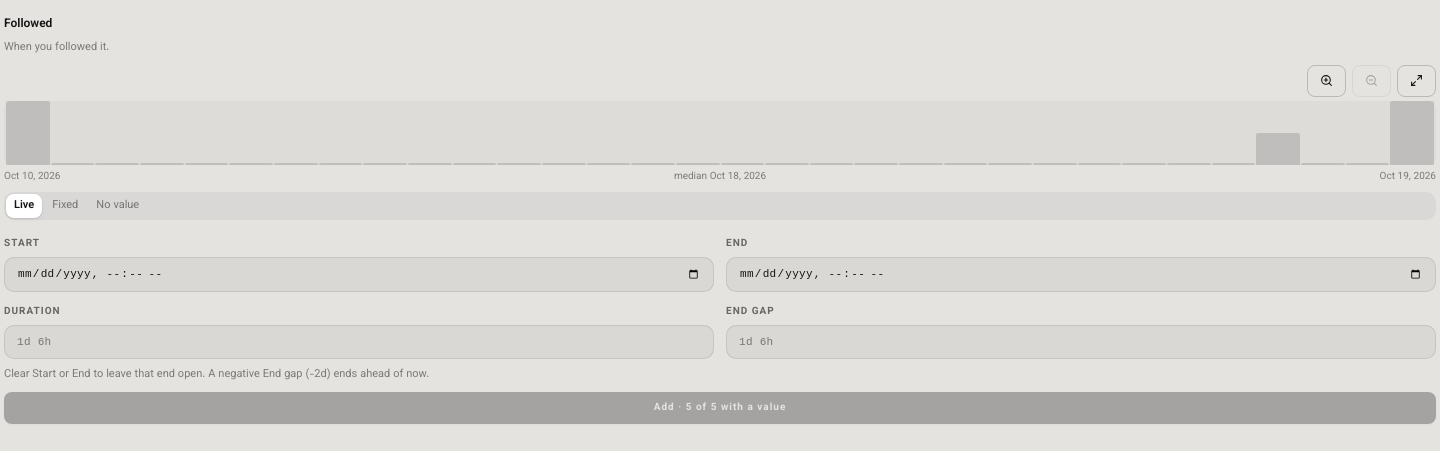
Test: ChannelTimeEditor › zoom (TB-04) › the captions show the time of day once under three days show
The image size is (1440, 451).
Click the button named "Zoom in" at {"x": 1326, "y": 80}, box [1307,64,1346,96]
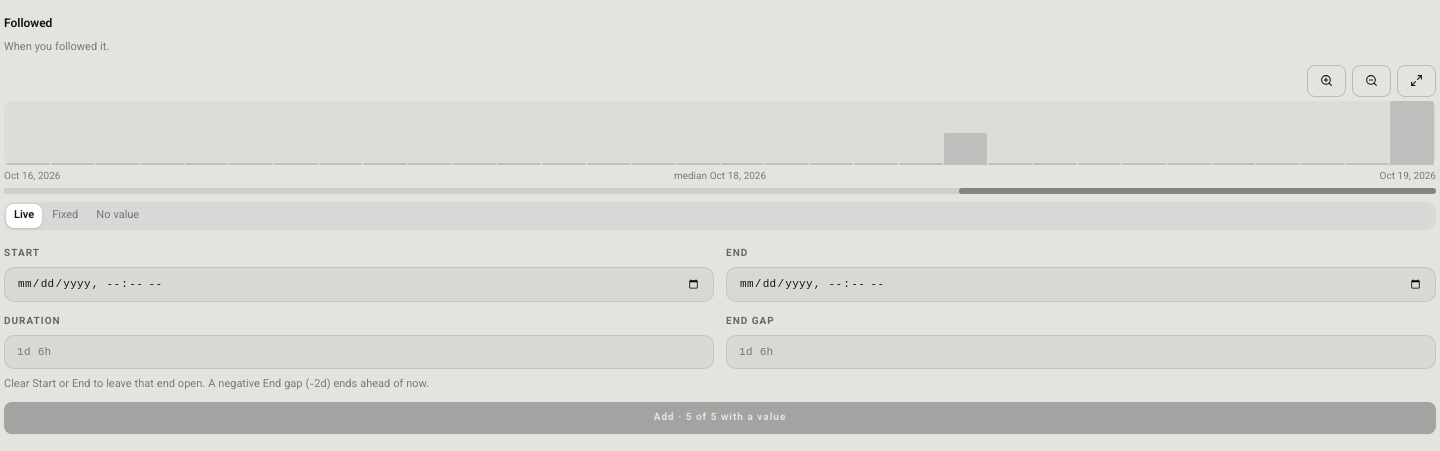
Click the button named "Zoom in" at {"x": 1326, "y": 80}, box [1307,64,1346,96]
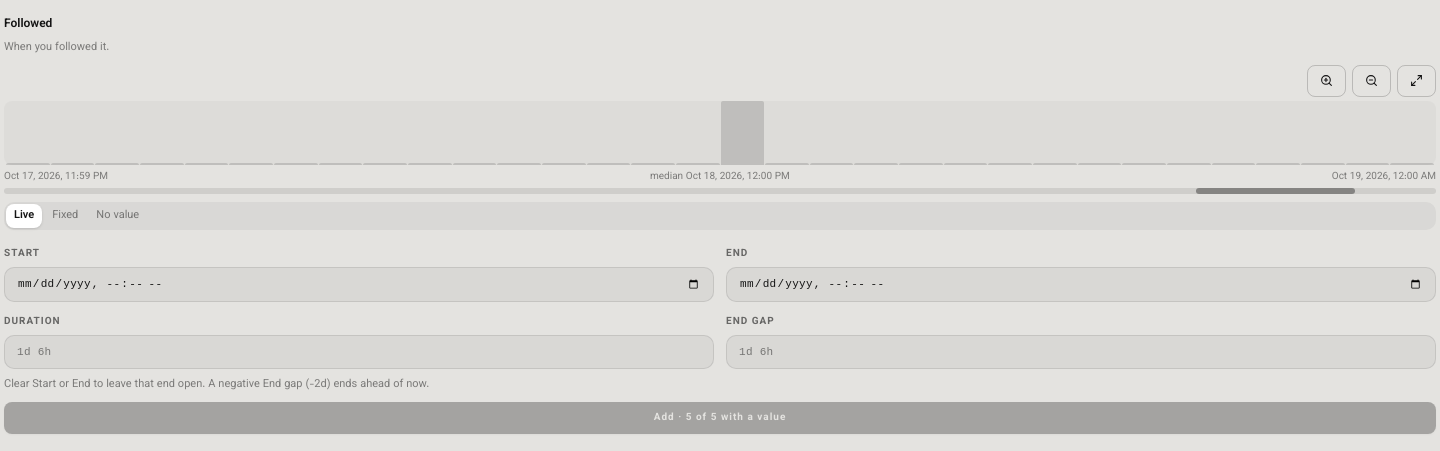
Expected: the element with test id "spread-caption" reads "Oct 17, 2026, 11:59 PM median Oct 18, 2026, 12:00 PM Oct 19, 2026, 12:00 AM", [4,168,108,184]
